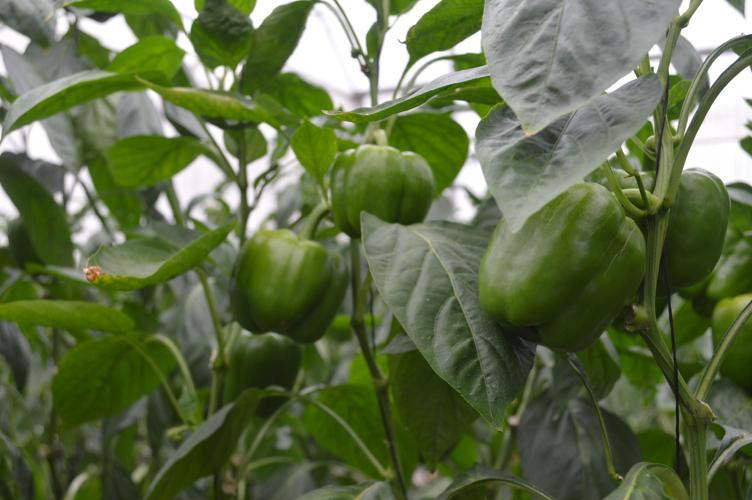BellPepper: (476, 182, 641, 344), (229, 229, 347, 343), (646, 166, 727, 301), (329, 145, 435, 235), (223, 334, 304, 406), (705, 299, 751, 391)
